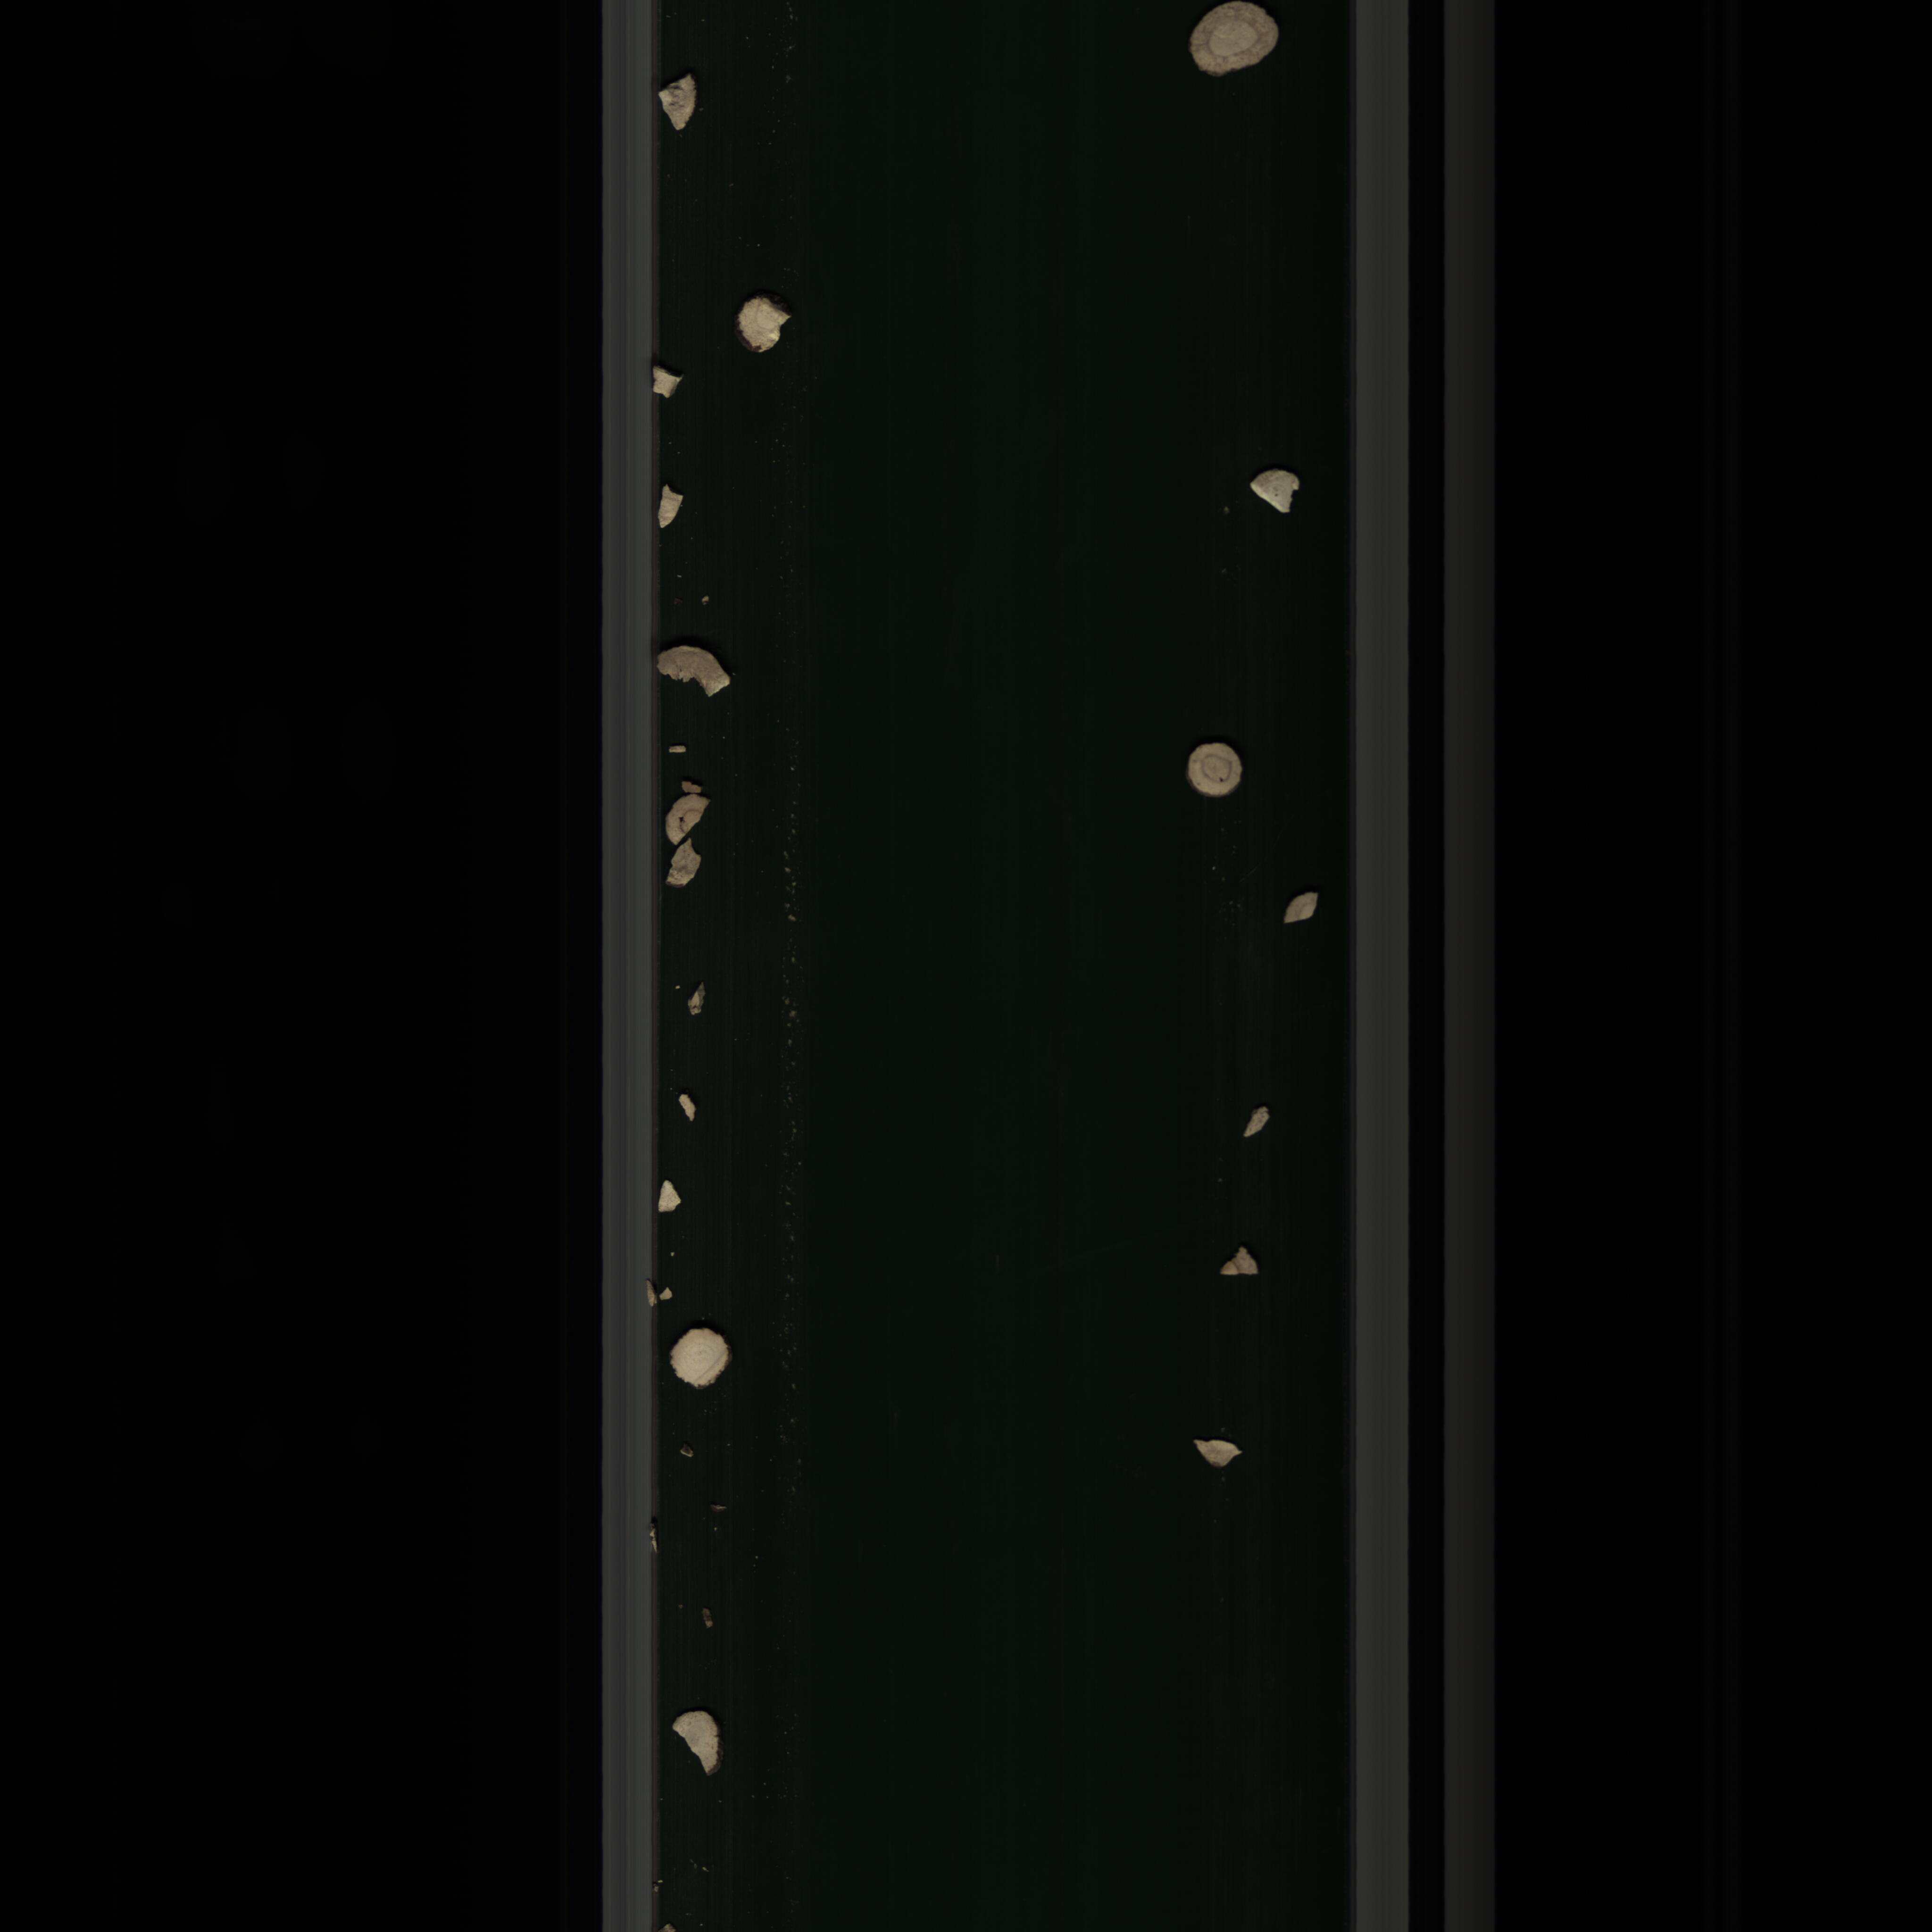debris: (653, 642, 732, 711), (669, 1709, 732, 1787), (669, 775, 709, 895), (729, 288, 805, 352), (658, 64, 704, 142), (1242, 464, 1302, 520), (1189, 1431, 1258, 1472), (1238, 1097, 1284, 1146), (1217, 1237, 1267, 1283), (1281, 883, 1325, 934), (646, 359, 686, 409), (653, 479, 686, 538), (672, 1085, 706, 1131), (658, 1173, 679, 1219)
